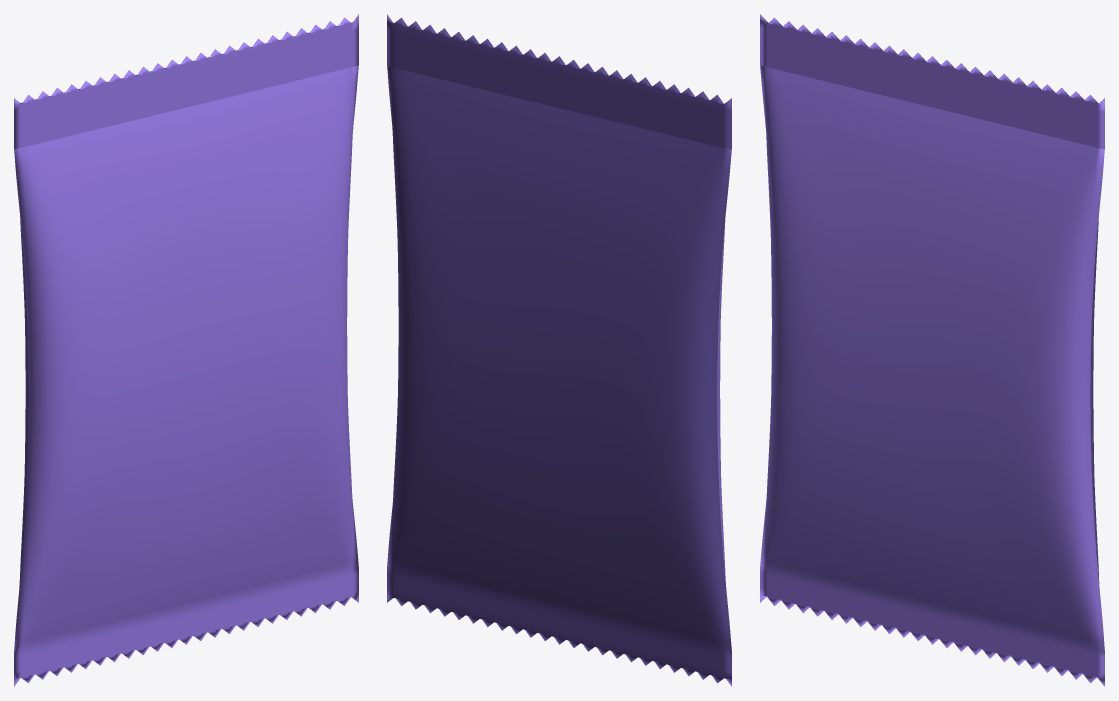
The model's file is pack.glb.
3 views of the same model, side by side, from view 1: azimuth 30°, elevation 25°; view 2: azimuth 150°, elevation 25°; view 3: azimuth 330°, elevation 25° (orthographic).
Visible parts, largest first — view 1: Body, Seal; view 2: Body, Seal; view 3: Body, Seal.
Boxes of the visible parts, left/top/right/bottom form: Body: left=14, top=65, right=358, bottom=686; Seal: left=14, top=14, right=358, bottom=149; Body: left=387, top=65, right=731, bottom=686; Seal: left=387, top=14, right=731, bottom=149; Body: left=760, top=65, right=1104, bottom=686; Seal: left=760, top=14, right=1104, bottom=149.
Size of the model in its own units: 0.86 by 1.4 by 0.1367.
